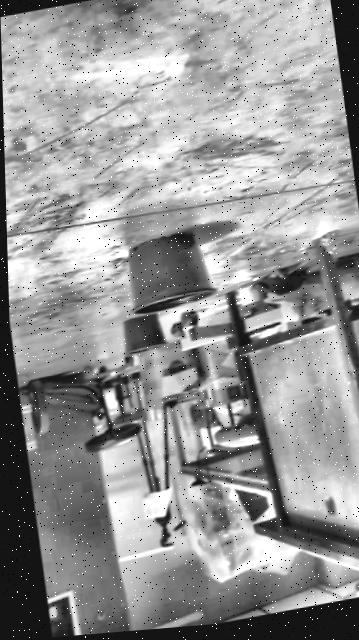pot: (122, 228, 217, 319), (119, 311, 169, 357)
